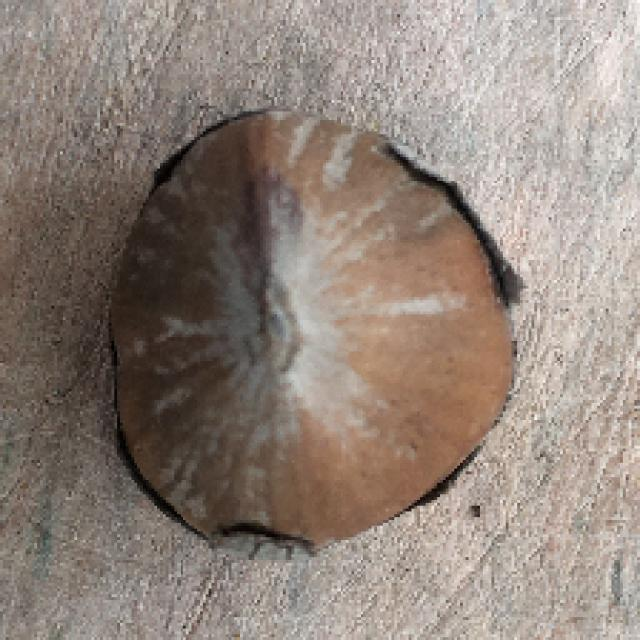damagedHazelnut: (88, 88, 526, 561)
